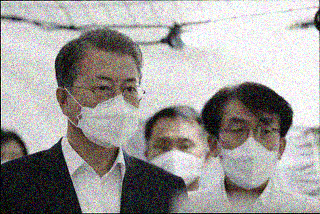with_mask: (73, 73, 142, 149), (217, 114, 280, 191), (146, 134, 203, 187)
